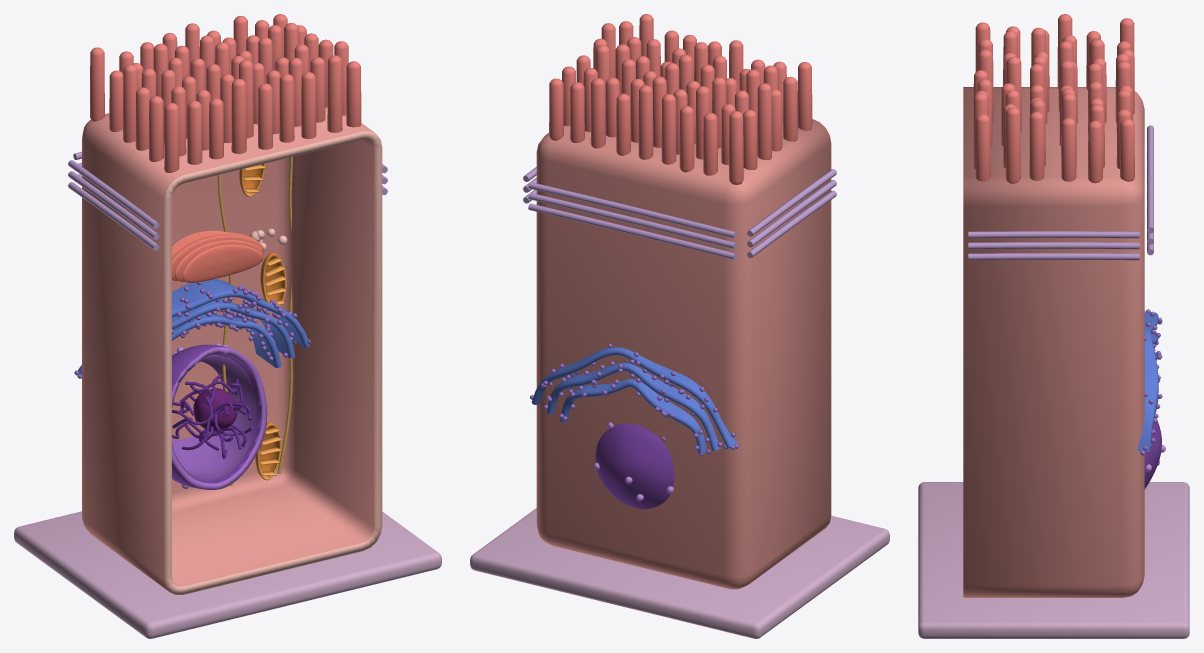
The model's file is epithelial.glb.
The picture shows the model from 3 angles, left to right: view 1: azimuth 30°, elevation 25°; view 2: azimuth 150°, elevation 25°; view 3: azimuth 270°, elevation 25°; orthographic projection.
Parts seen in each view (by area): view 1: membrane, microvilli, basement, rough-er, nucleus_nucleoplasm, golgi, nucleus, junctions, nucleus_chromatin, rough-er_ribosomes, cytoskeleton, nucleus_nucleolus (+2 smaller); view 2: membrane, microvilli, basement, junctions, rough-er, nucleus, rough-er_ribosomes; view 3: membrane, basement, microvilli, junctions, rough-er, nucleus, rough-er_ribosomes.
Boxes of the visible parts, box(x1,y1,x2,y2) form: membrane: box(82, 107, 382, 594); microvilli: box(90, 14, 361, 172); basement: box(14, 511, 441, 638); rough-er: box(77, 279, 309, 375); nucleus_nucleoplasm: box(172, 354, 256, 479); golgi: box(172, 230, 263, 283); nucleus: box(172, 344, 267, 489); junctions: box(68, 151, 387, 250); nucleus_chromatin: box(172, 374, 253, 458); rough-er_ribosomes: box(74, 282, 310, 378); cytoskeleton: box(217, 157, 292, 485); nucleus_nucleolus: box(193, 388, 237, 431); membrane: box(536, 119, 831, 589); microvilli: box(549, 14, 812, 184); basement: box(470, 508, 889, 638); junctions: box(523, 167, 836, 259); rough-er: box(531, 347, 738, 453); nucleus: box(595, 423, 674, 509); rough-er_ribosomes: box(530, 344, 738, 456); membrane: box(963, 87, 1144, 597); basement: box(918, 482, 1189, 638); microvilli: box(973, 14, 1134, 183); junctions: box(968, 125, 1153, 260); rough-er: box(1137, 312, 1158, 451); nucleus: box(1144, 421, 1161, 488); rough-er_ribosomes: box(1140, 309, 1162, 455).
Size of the model in its own units: 3.4 by 5.6 by 2.7.
